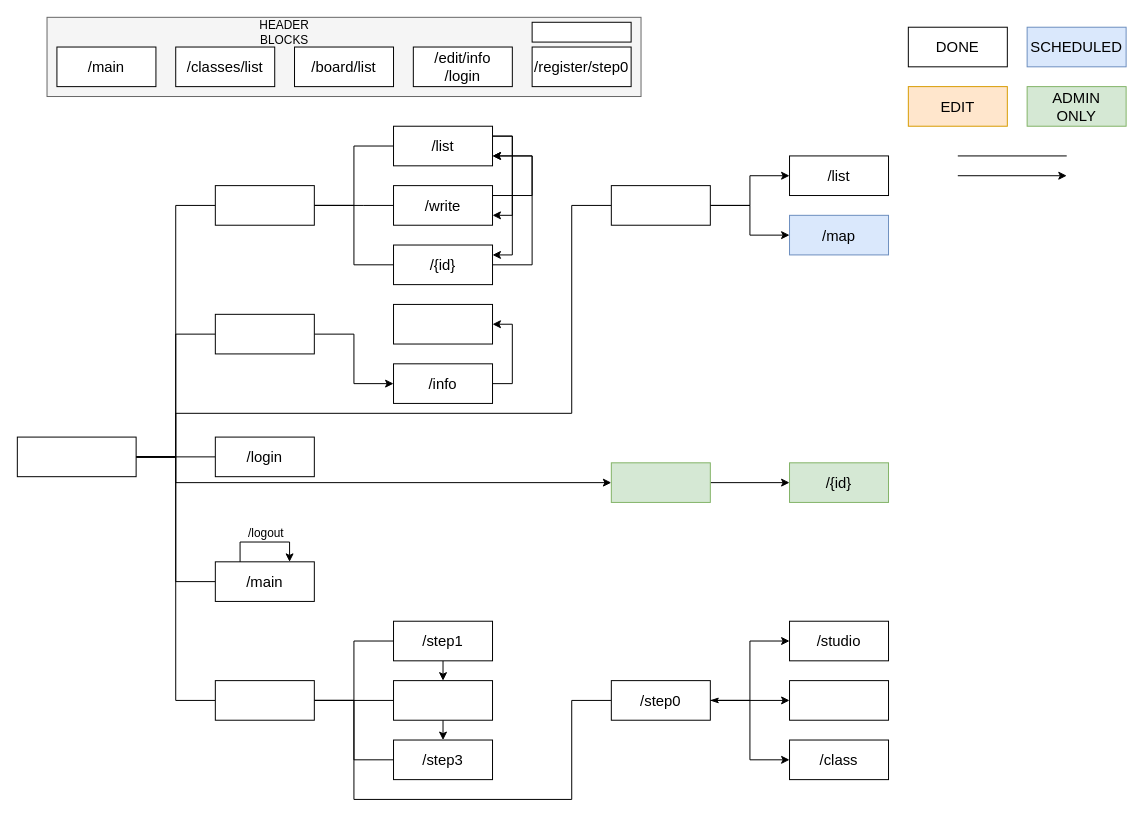
This 1143x818 diagram has some shape labels left out. Each missing label, with the box of its shape:
/board: (214, 185, 314, 225)
/change Password: (393, 303, 493, 344)
/classes: (610, 185, 710, 225)
/edit: (214, 313, 314, 354)
/instructor: (789, 680, 889, 720)
/login /logout: (531, 21, 631, 42)
/members: (610, 462, 710, 502)
/register: (214, 680, 314, 720)
/step2: (393, 680, 493, 720)
YouCanDance: (16, 436, 136, 477)
